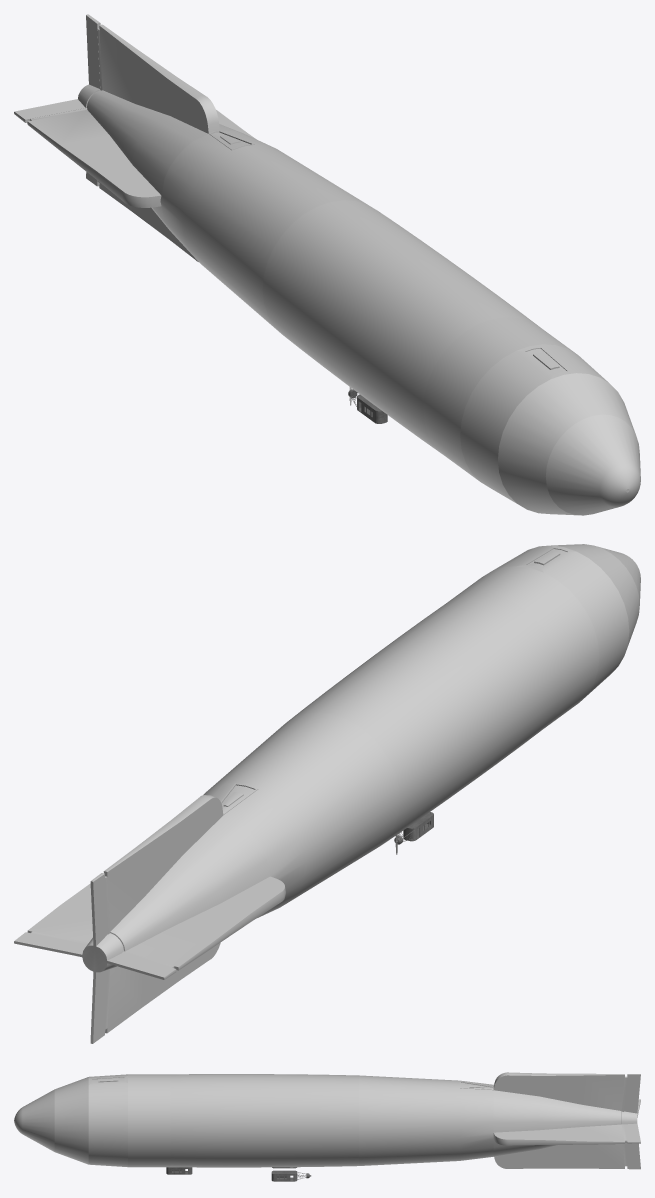
The model's file is uploads_files_4634260_Zeppelin.fbx.
3 renders of one model, top to bottom at view 1: azimuth 30°, elevation 25°; view 2: azimuth 150°, elevation 25°; view 3: azimuth 270°, elevation 25°, orthographic. The views are drawn at different scales.
Parts seen in each view (by area): view 1: Cylinder.034; view 2: Cylinder.034; view 3: Cylinder.034, Cube.032, Cube.031.
Part boxes in pixels (box(x1,y1,x2,y2)): Cylinder.034: box(14, 14, 640, 515); Cylinder.034: box(14, 544, 640, 1043); Cylinder.034: box(14, 1072, 640, 1169); Cube.032: box(271, 1167, 297, 1181); Cube.031: box(166, 1167, 192, 1174).
Size of the model in its own units: 224 by 242 by 1333.
